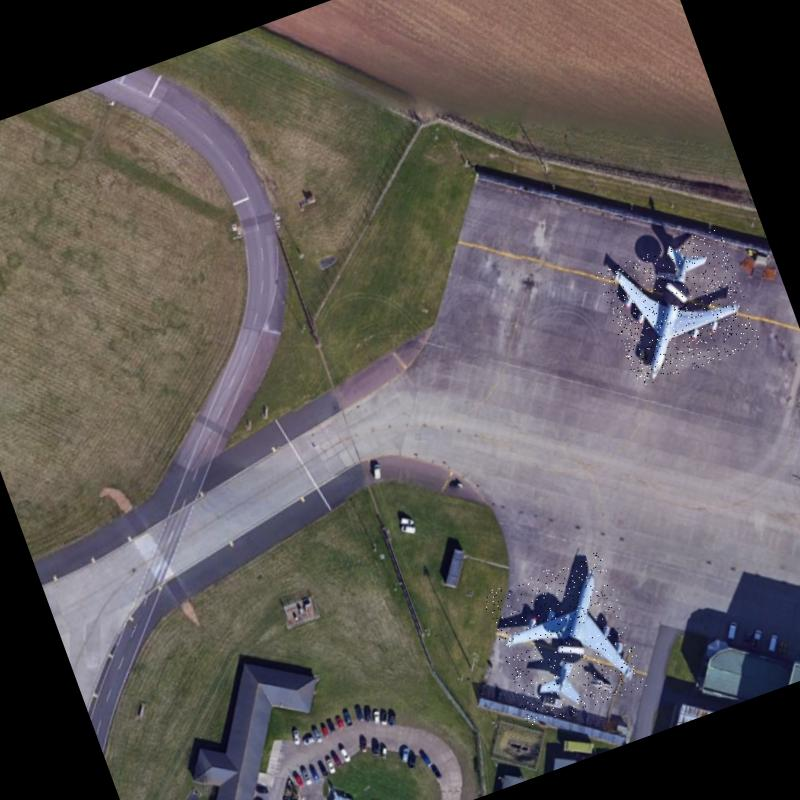A7: (480, 550, 648, 729), (594, 226, 762, 390)
